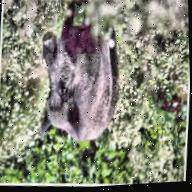boar: (15, 0, 128, 161)
